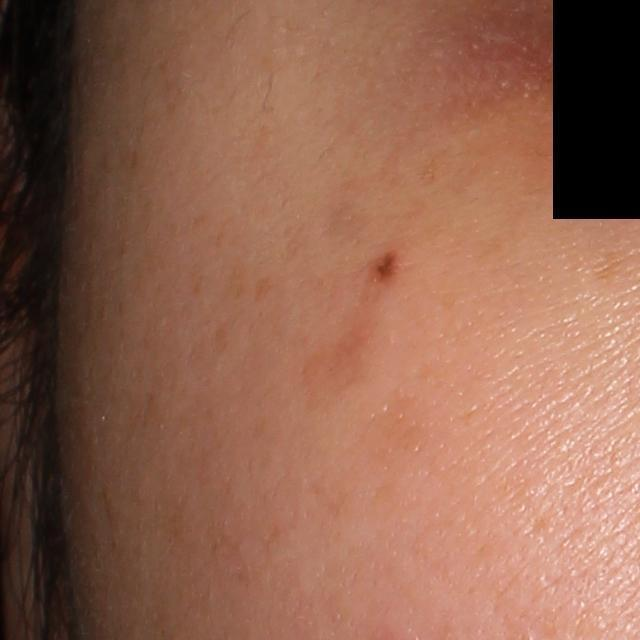melasma: (315, 200, 378, 254), (252, 272, 276, 306)
nevus: (370, 245, 403, 287)
